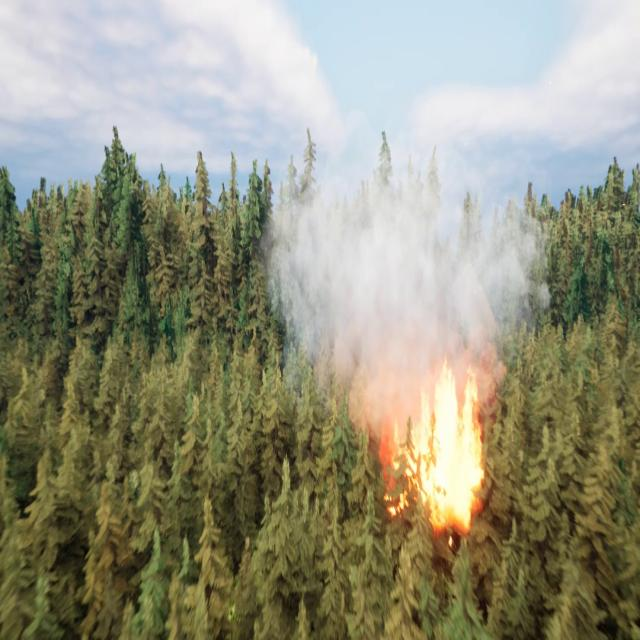fire: (382, 357, 494, 536)
smoke: (270, 159, 554, 445)
